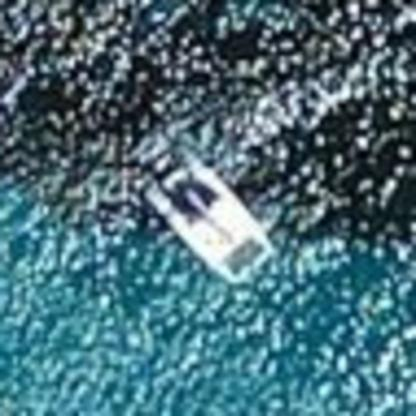ship: (128, 147, 276, 296)
